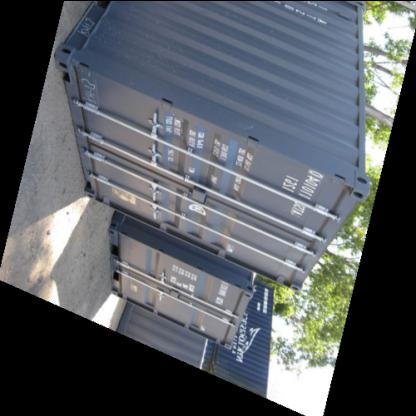Damage: (78, 72, 102, 104), (76, 20, 105, 39), (236, 121, 262, 134)
